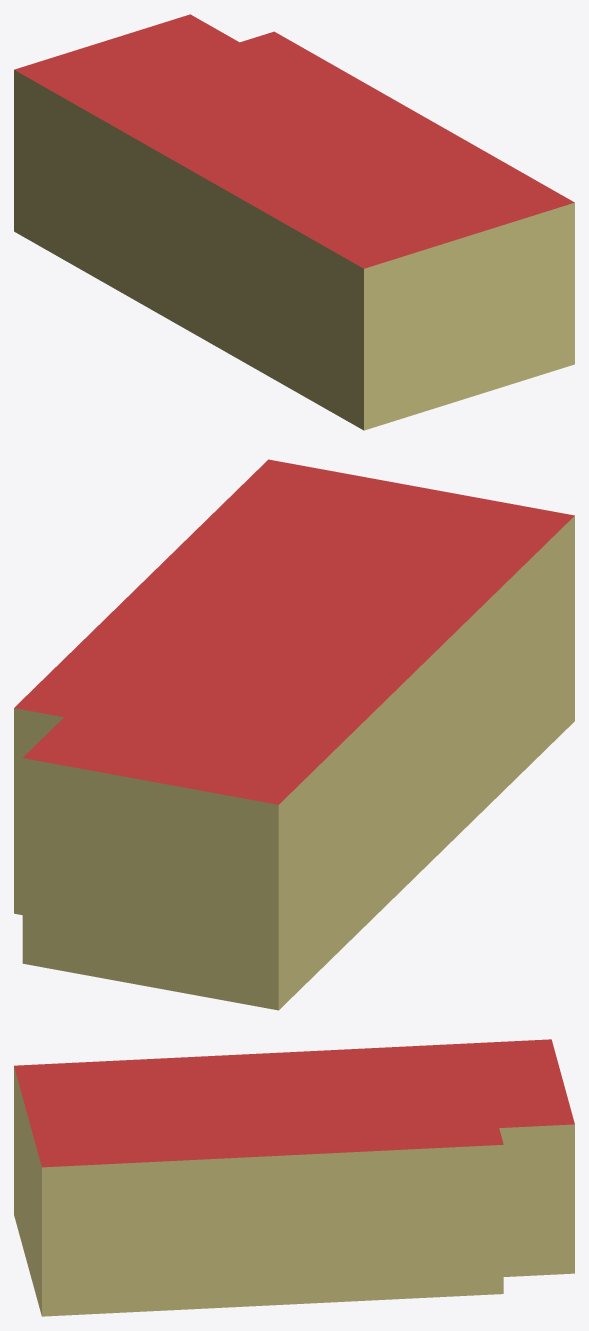
The picture shows the model from 3 angles, top to bottom: view 1: azimuth 30°, elevation 25°; view 2: azimuth 150°, elevation 25°; view 3: azimuth 270°, elevation 25°; orthographic projection. The views are drawn at different scales.
Size of the model in its own units: 11.71 by 21.69 by 6.36.
